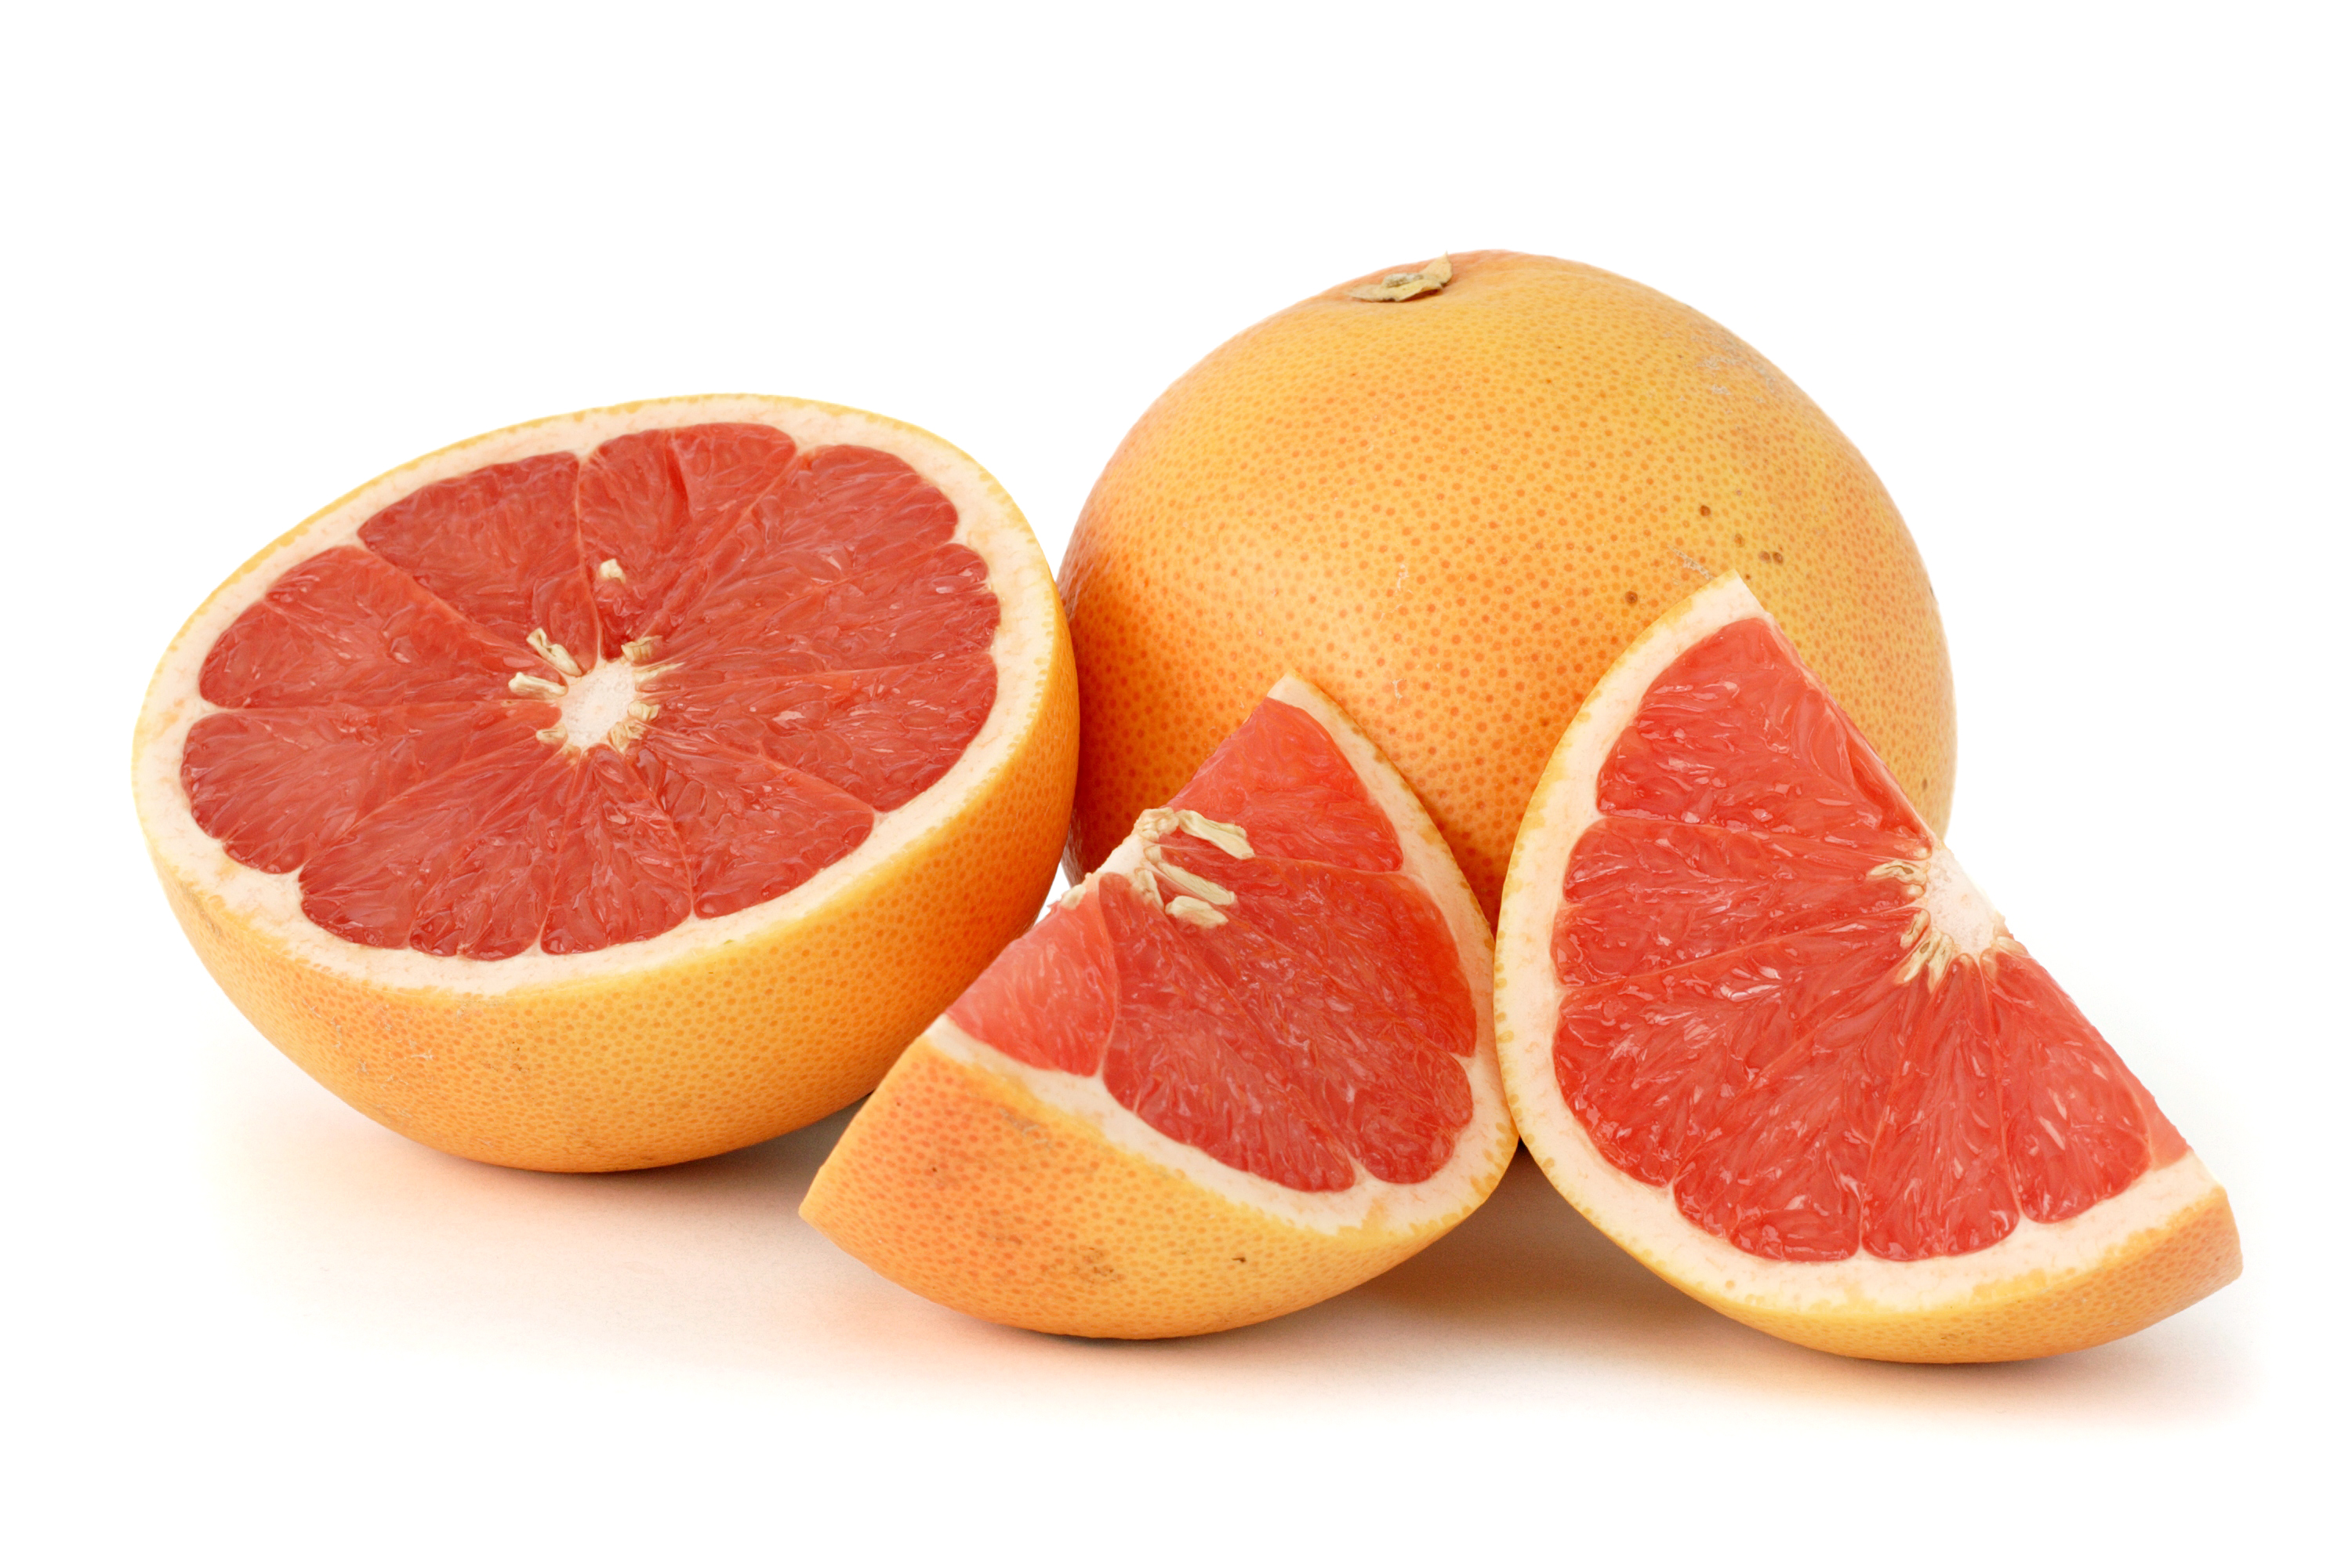grapefruit: (126, 385, 1076, 1176), (1073, 212, 1971, 896), (1502, 579, 2235, 1346), (840, 695, 1508, 1339)
